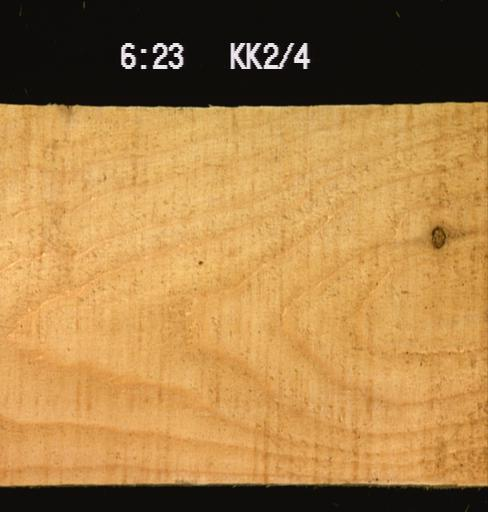dry_knot: (428, 223, 447, 252)
